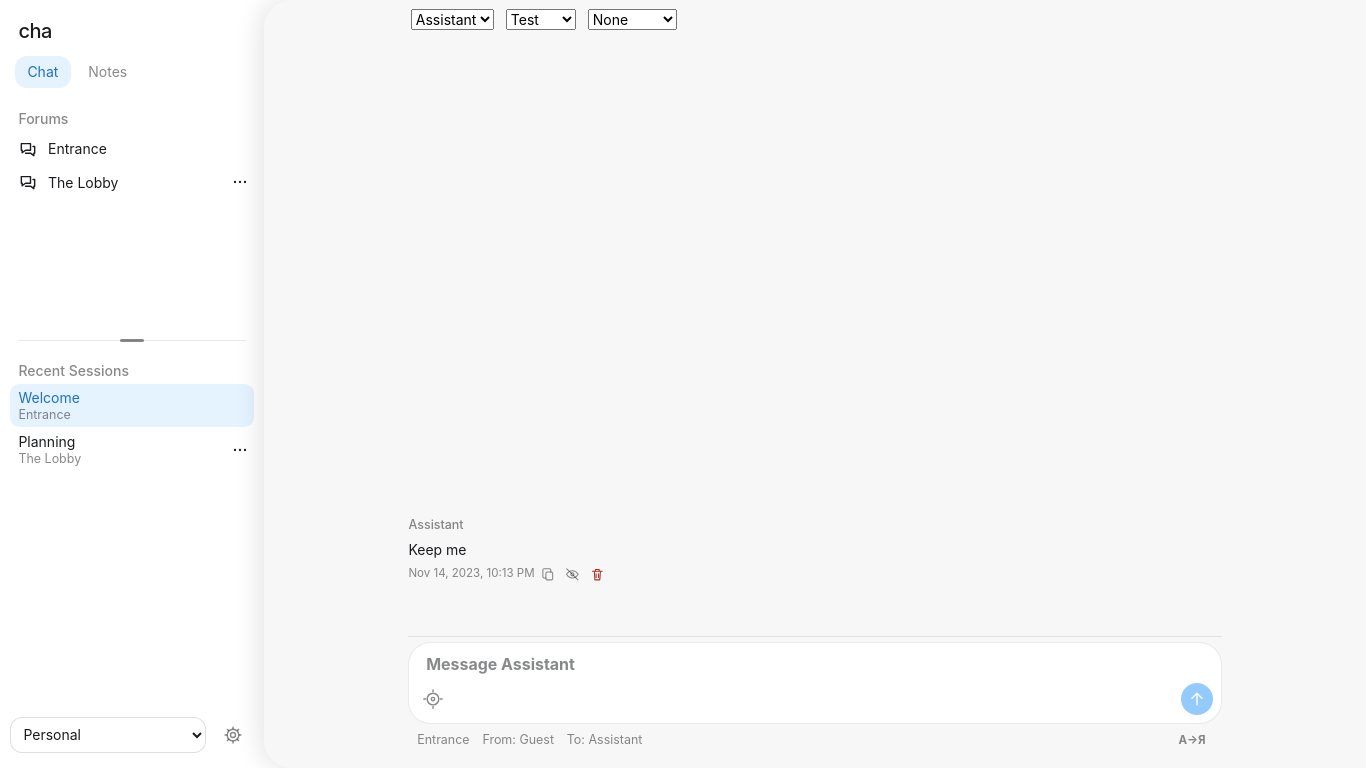
live chat › keeps a response when deletion is cancelled
Expected: the text box labelled "Message" is enabled, [417,651,1213,679]
Click the button named "Delete Assistant's response and its prompt".
click(597, 574)  # box [587,564,608,584]
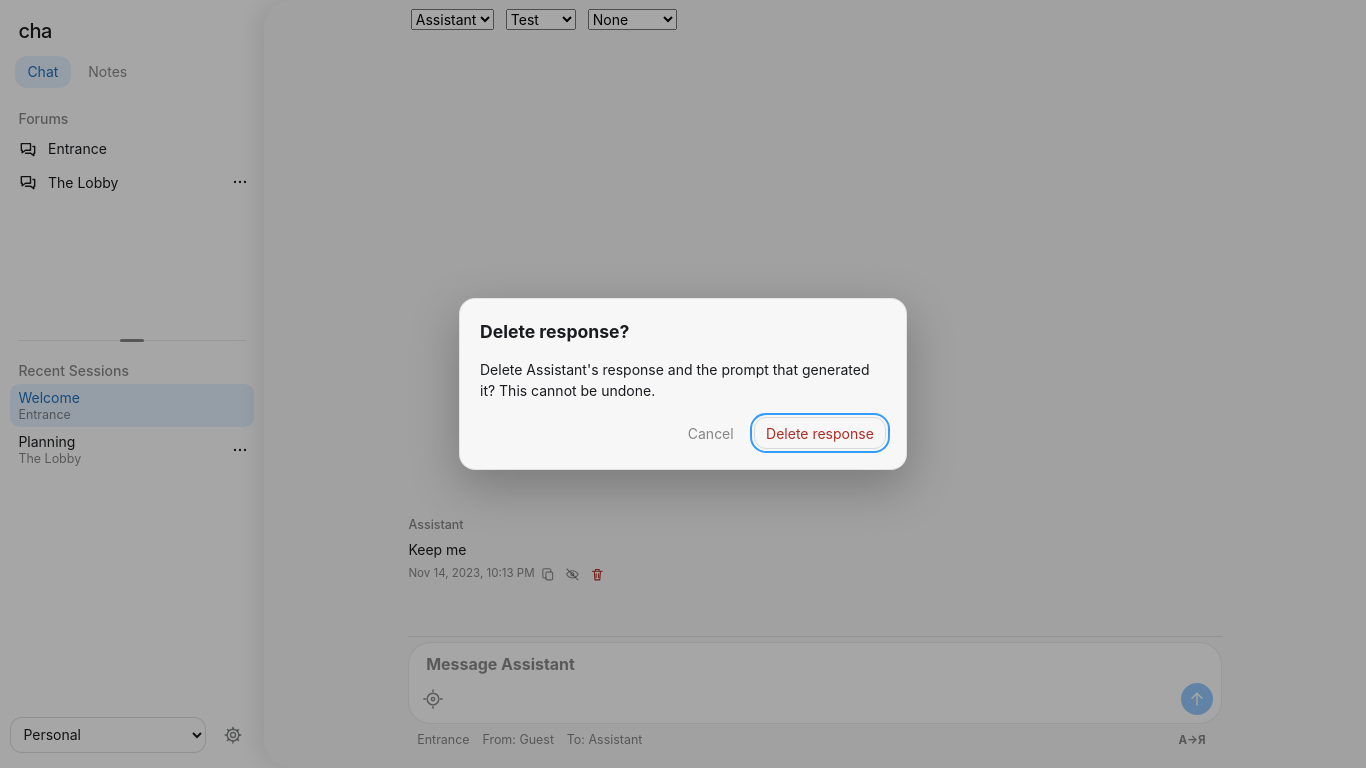
Click the button "Cancel".
click(711, 433)  # box [676,417,746,449]
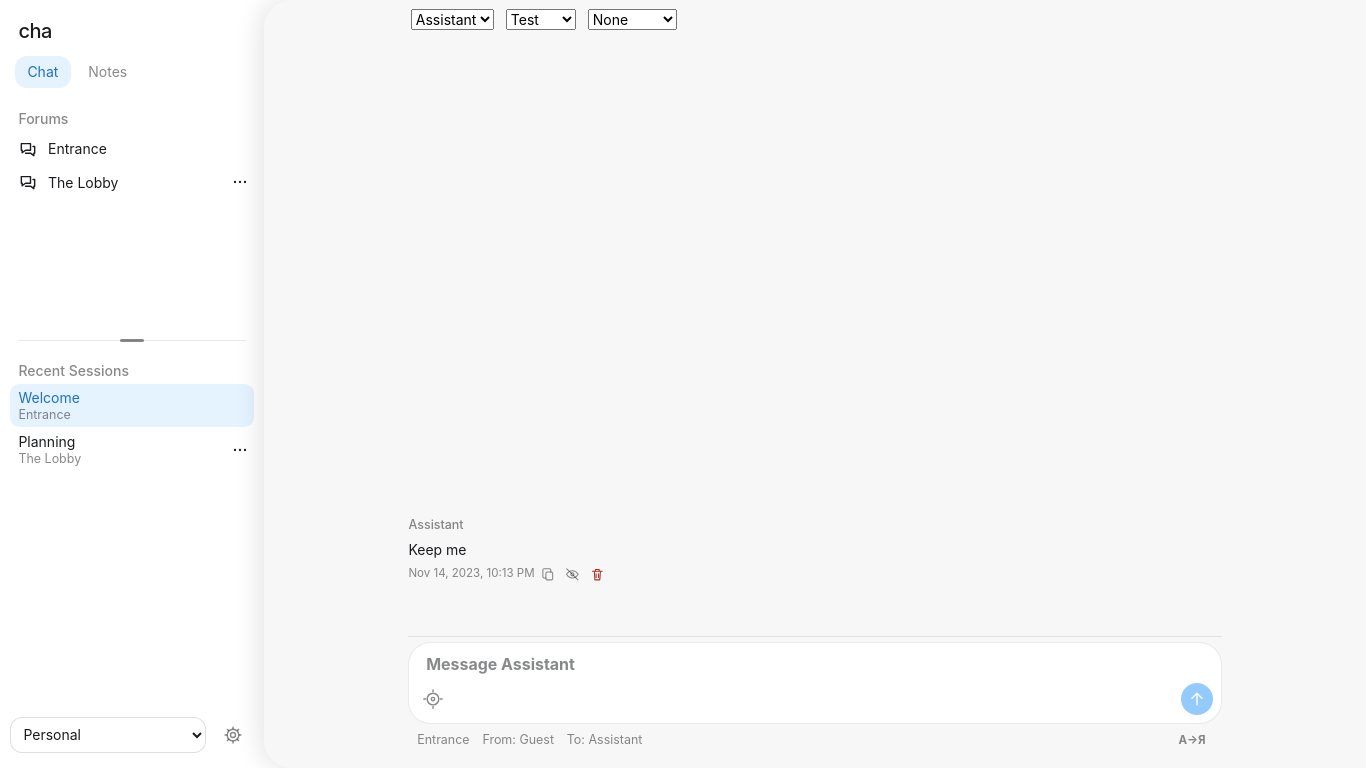
Expected: the text "Keep me" is shown, [408,541,466,558]
Expected: the dialog is gone
